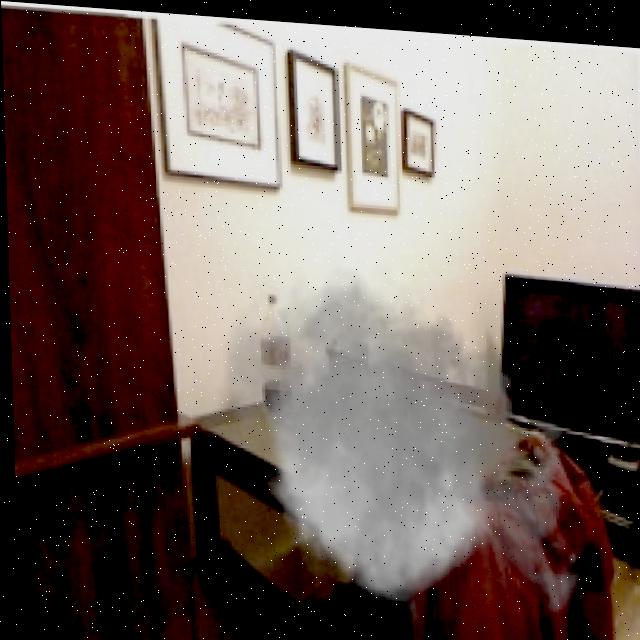Smoke: (203, 239, 590, 640)
